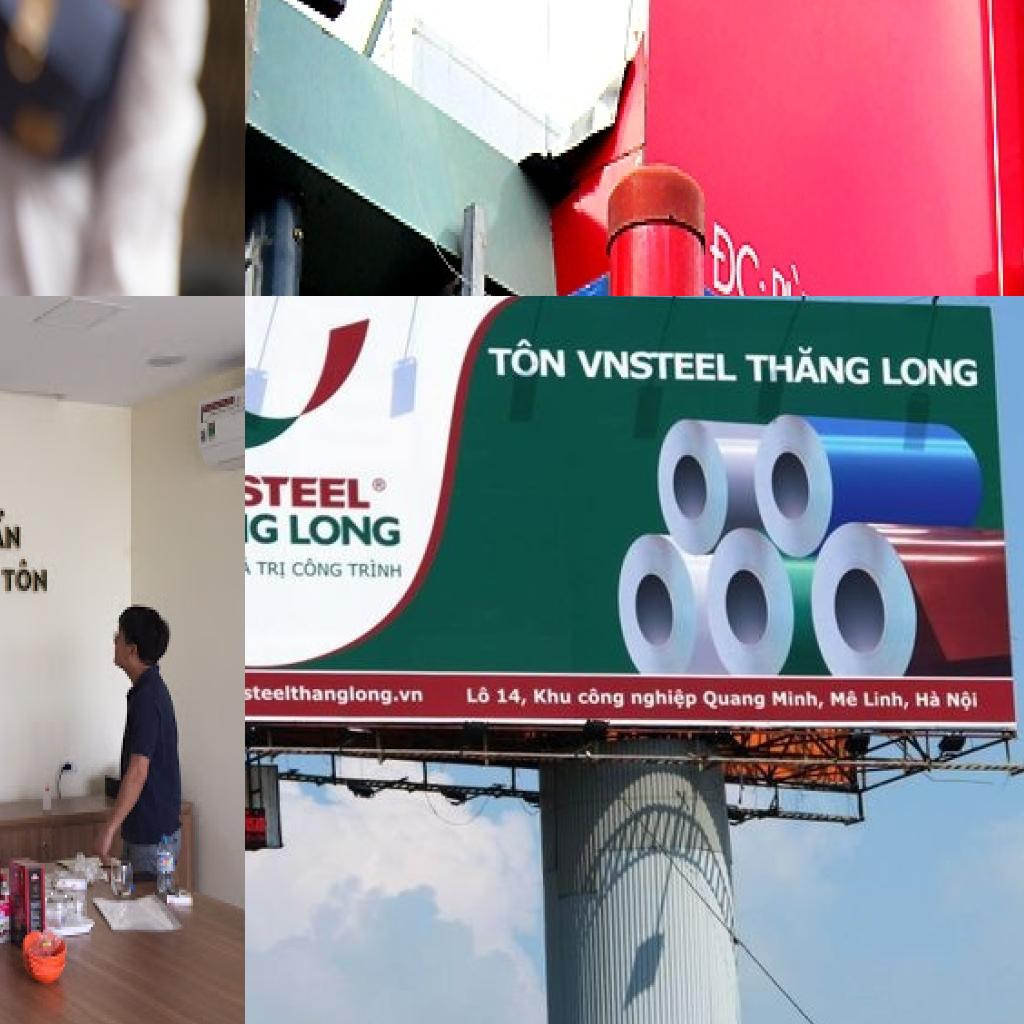text: (570, 346, 743, 386), (741, 346, 875, 390), (245, 469, 378, 511), (709, 218, 770, 296), (245, 681, 426, 707), (287, 511, 403, 551), (483, 334, 570, 382), (770, 245, 815, 296), (628, 686, 701, 714), (0, 556, 51, 596), (697, 686, 770, 712), (291, 555, 345, 582), (245, 507, 281, 547), (768, 687, 828, 711), (859, 686, 915, 711), (345, 559, 405, 582), (576, 686, 628, 711), (942, 686, 984, 716), (526, 686, 576, 709), (0, 505, 23, 553), (494, 684, 534, 711), (826, 686, 863, 711), (252, 559, 289, 582), (463, 682, 494, 709), (914, 686, 944, 711), (245, 551, 258, 580)
